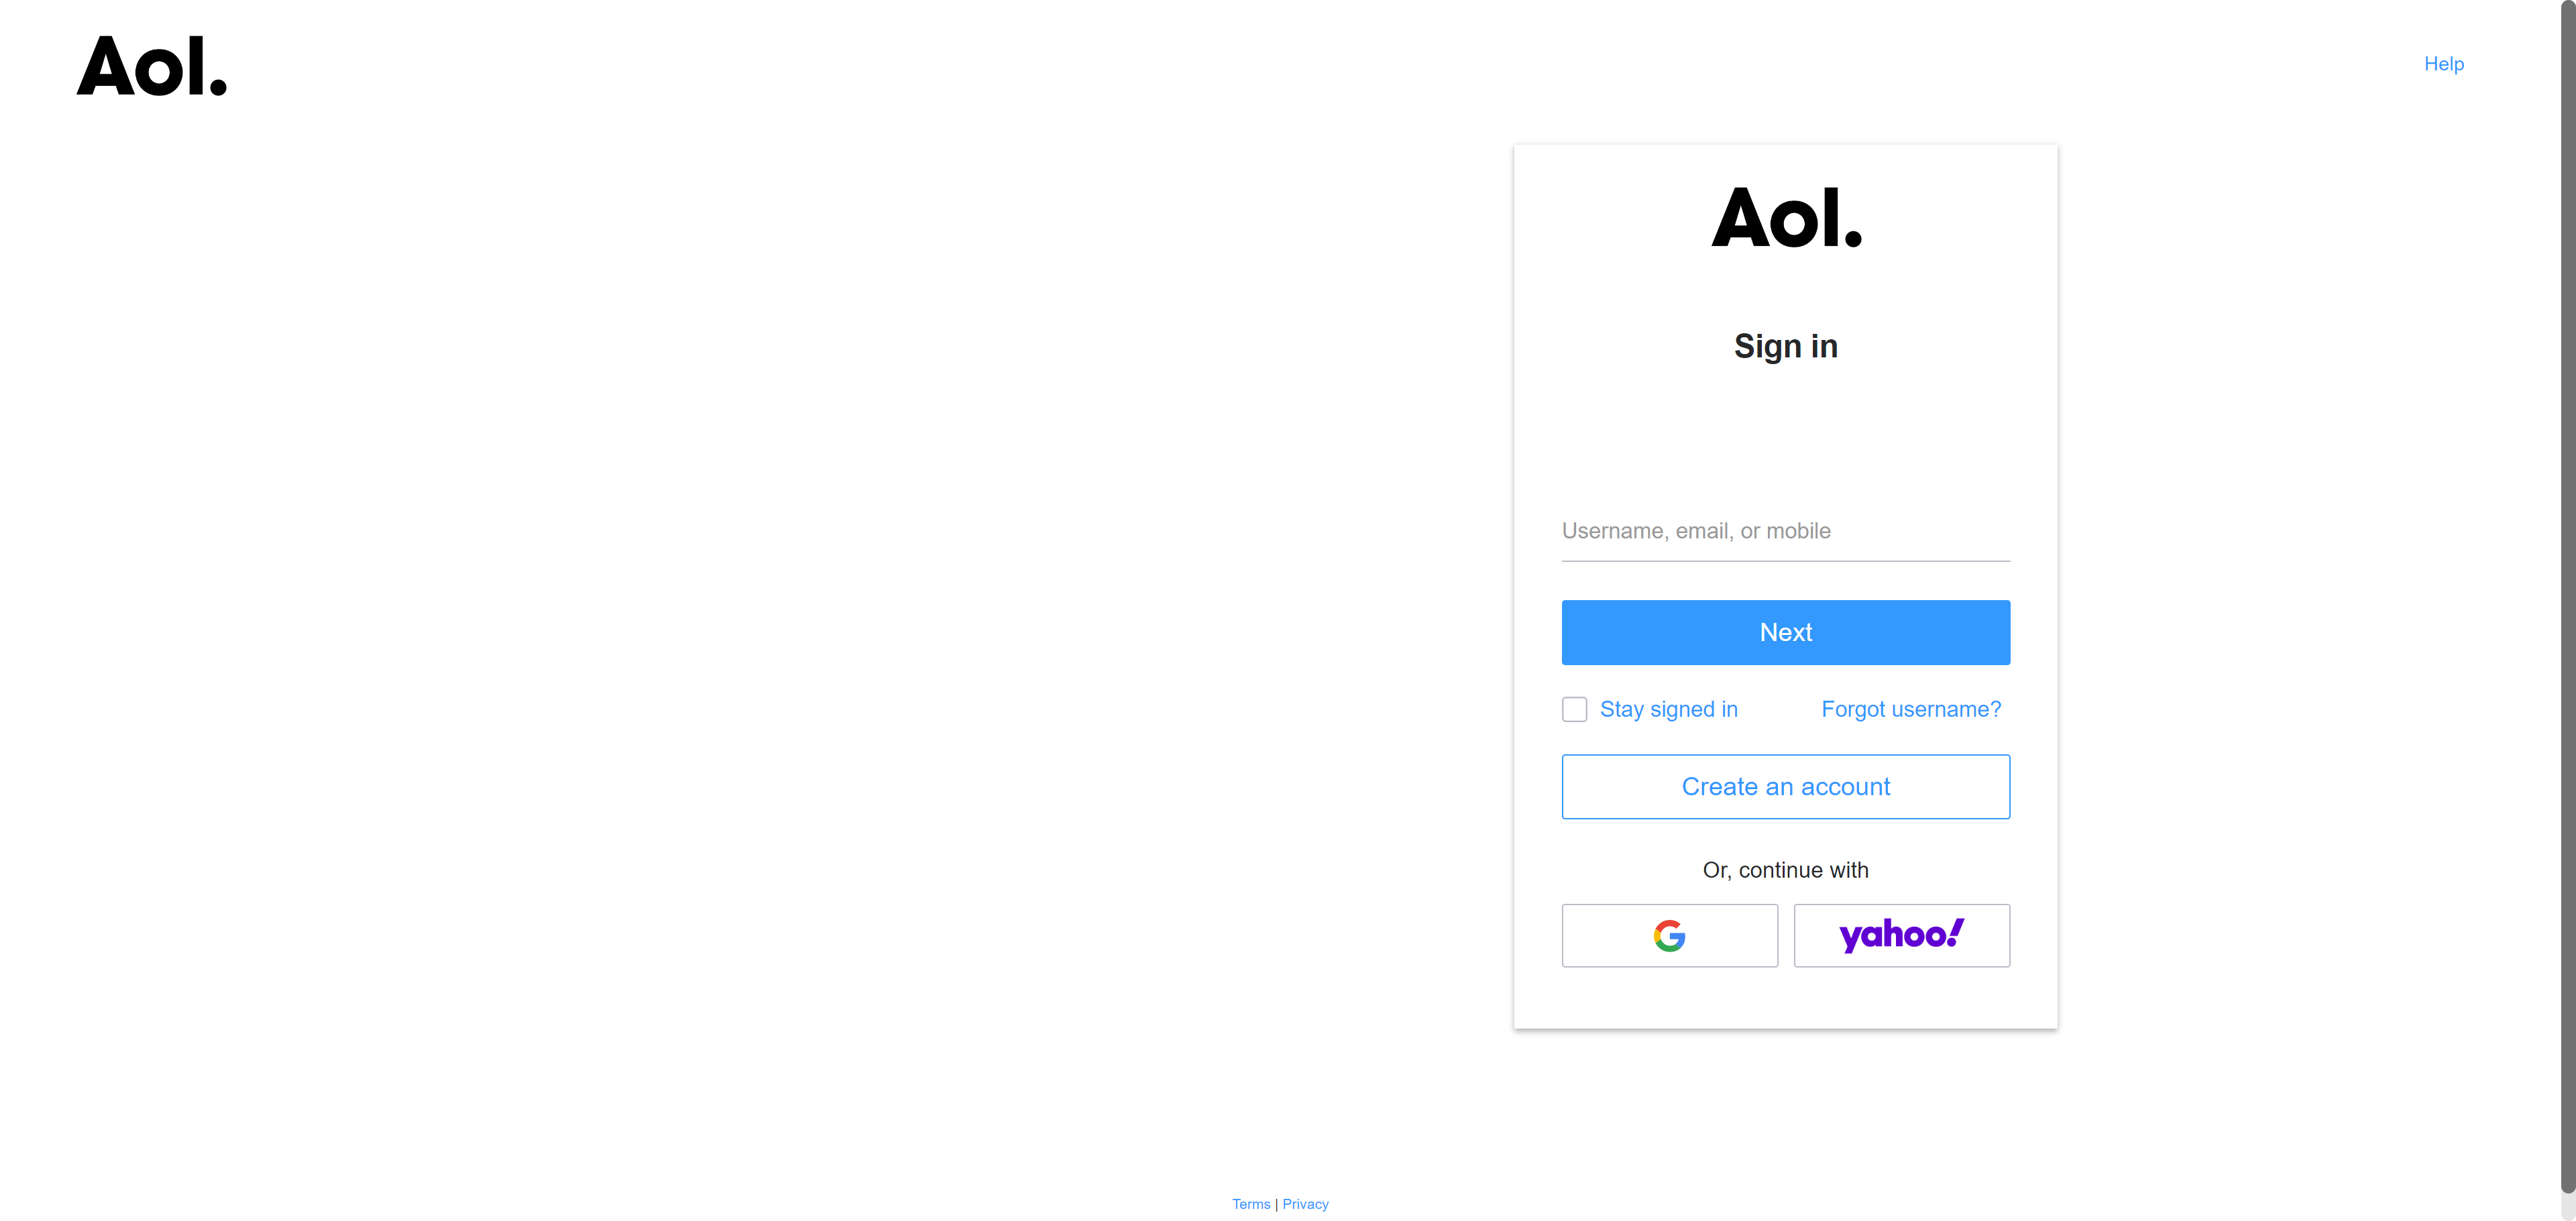login_button: (1561, 600, 2011, 667)
login_form: (1546, 501, 2024, 680)
